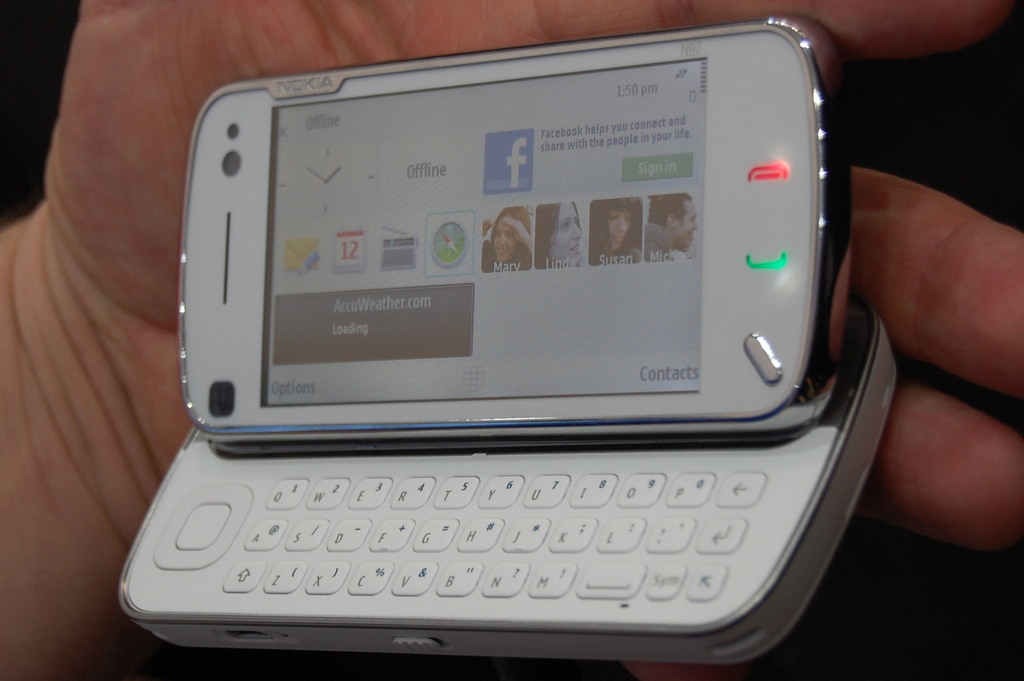mobile phone: (98, 20, 878, 645)
